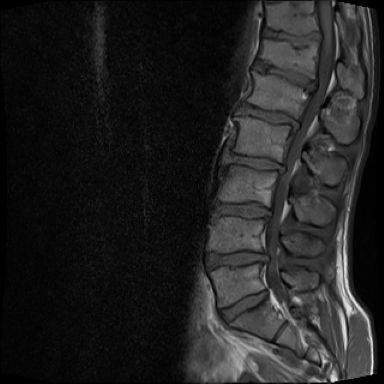Lumbar Disc Bulge (LDB): (231, 98, 306, 133), (201, 244, 277, 277), (224, 146, 293, 180), (209, 195, 275, 225)
Normal IVD: (212, 284, 273, 328)
Spinal Stenosis (SS): (300, 73, 326, 103), (273, 154, 293, 182), (284, 113, 306, 137), (311, 29, 333, 51), (257, 244, 277, 268), (264, 200, 280, 225)
Thoracic Disc Bulge (TDB): (246, 56, 322, 99), (255, 22, 327, 49)
